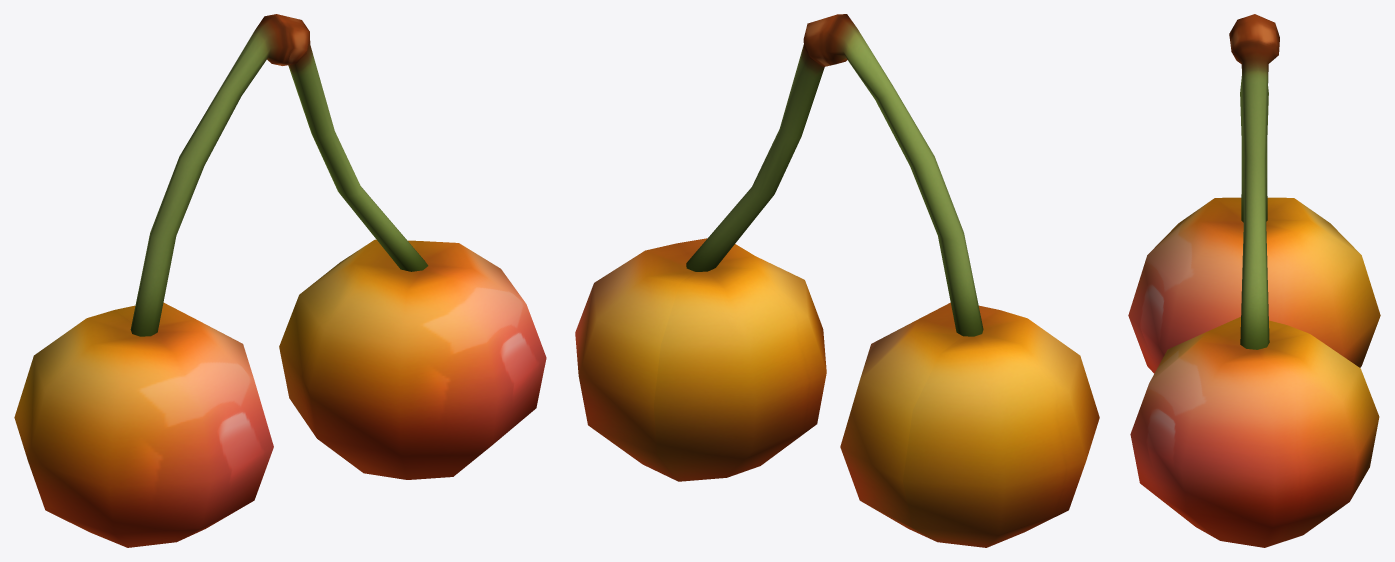
File: Cherry_Yellow.fbx
3 renders of one model, left to right at view 1: azimuth 30°, elevation 25°; view 2: azimuth 150°, elevation 25°; view 3: azimuth 270°, elevation 25°, orthographic. The views are drawn at different scales.
Parts seen in each view (by area): view 1: Cherry_Yellow; view 2: Cherry_Yellow; view 3: Cherry_Yellow.
Part boxes in pixels (left/top/right/bottom): Cherry_Yellow: left=14, top=14, right=546, bottom=547; Cherry_Yellow: left=575, top=14, right=1099, bottom=547; Cherry_Yellow: left=1128, top=14, right=1380, bottom=547.
Bounding box in the file's own units: 29.51 × 26.82 × 13.74.
1 material, 1 textured.
